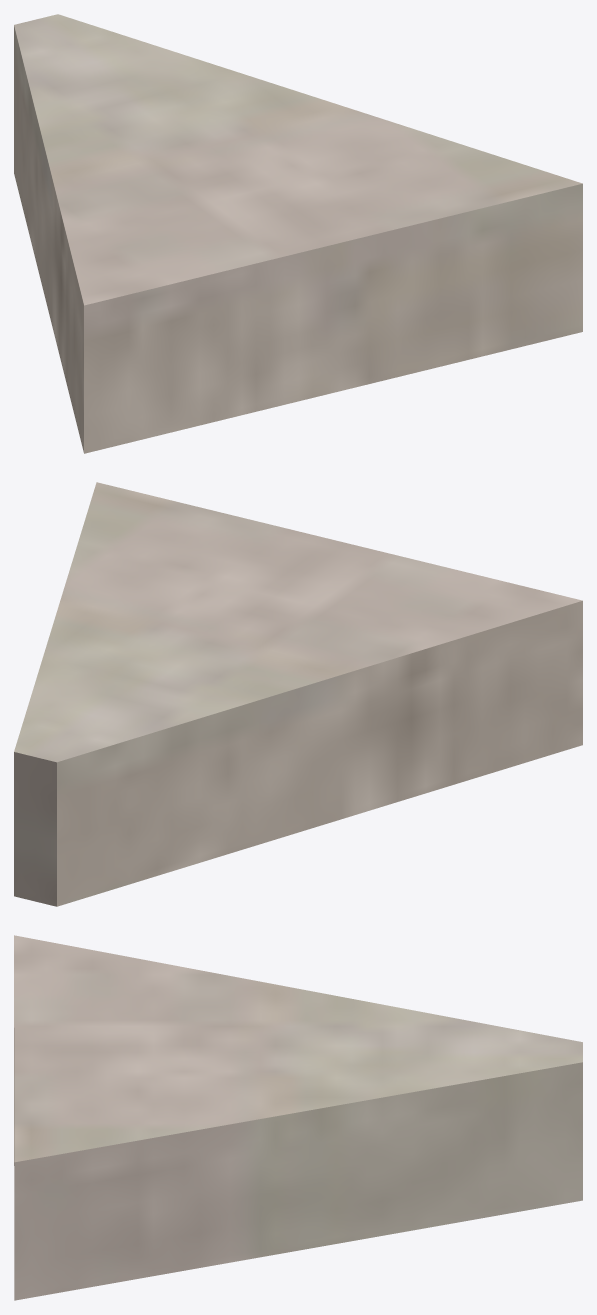
The model's file is pasted__marble_tile_46.fbx.
3 views of the same model, one above another, from view 1: azimuth 30°, elevation 25°; view 2: azimuth 150°, elevation 25°; view 3: azimuth 270°, elevation 25° (orthographic). The views are drawn at different scales.
Parts seen in each view (by area): view 1: pasted__marble_tile_46; view 2: pasted__marble_tile_46; view 3: pasted__marble_tile_46.
Boxes of the visible parts, x1=… form: pasted__marble_tile_46: x1=14, y1=14, x2=582, y2=453; pasted__marble_tile_46: x1=14, y1=482, x2=582, y2=906; pasted__marble_tile_46: x1=14, y1=935, x2=582, y2=1300.
Bounding box in the file's own units: 10.57 × 11.19 × 3.
